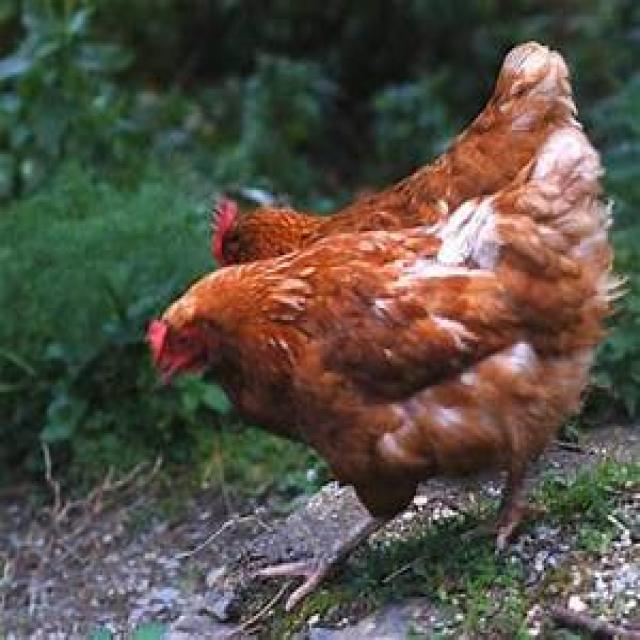hen: (150, 125, 611, 577)
